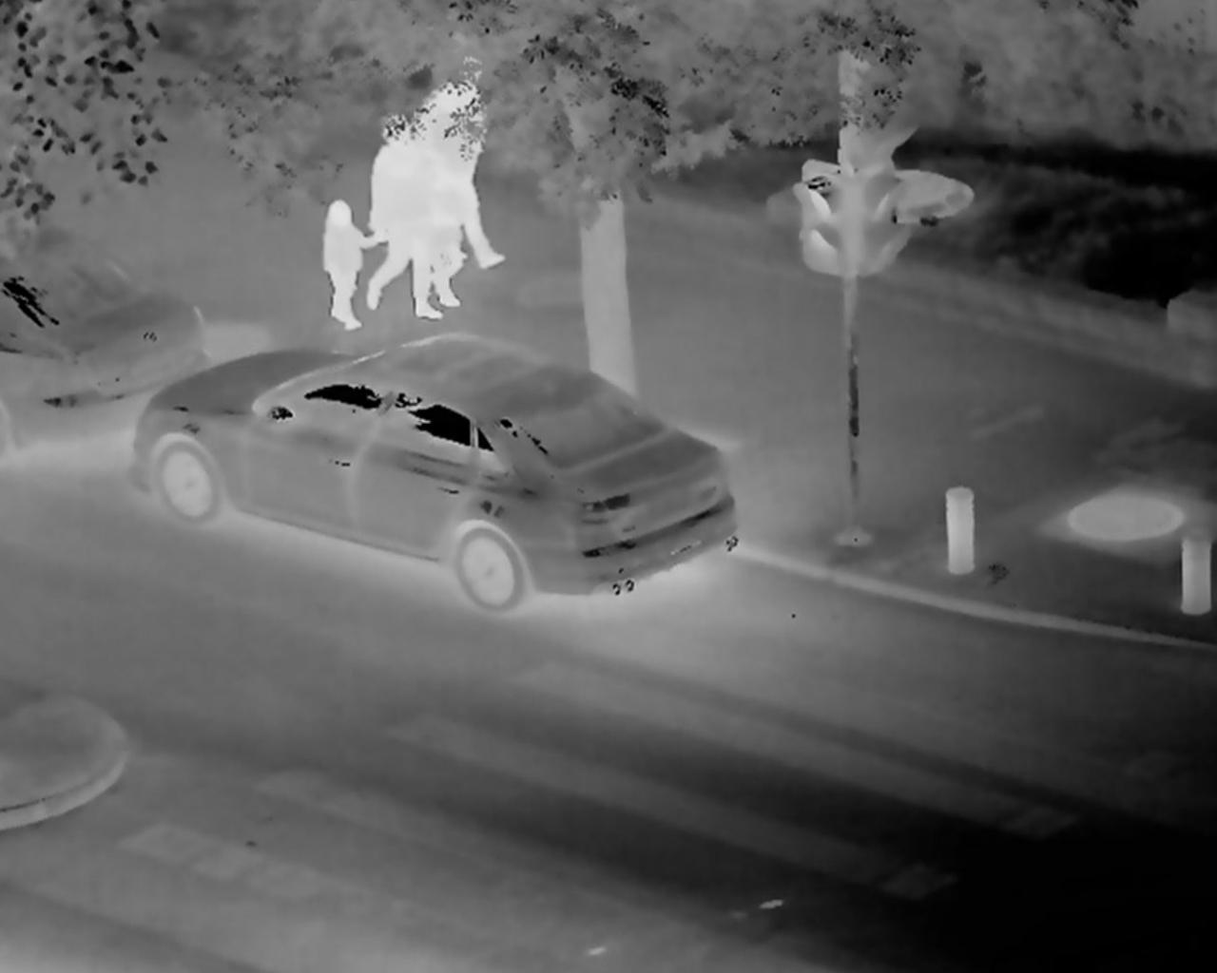person: (438, 60, 491, 306), (378, 129, 433, 323), (316, 202, 367, 326)
